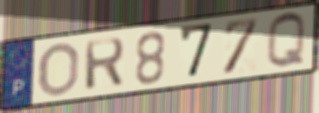7: (222, 16, 261, 77), (178, 22, 215, 82)
8: (135, 30, 167, 86)
O: (36, 41, 81, 98)
Q: (265, 11, 308, 72)
R: (83, 36, 127, 93)
